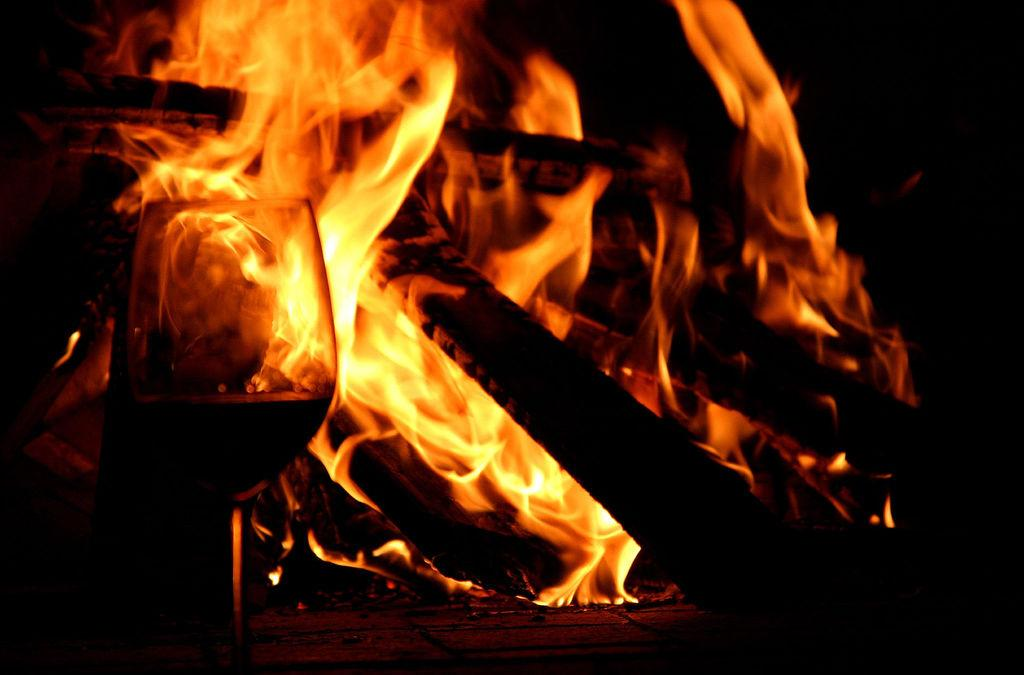fire: (153, 128, 382, 282), (352, 317, 500, 512), (188, 3, 435, 98), (467, 152, 627, 288)
